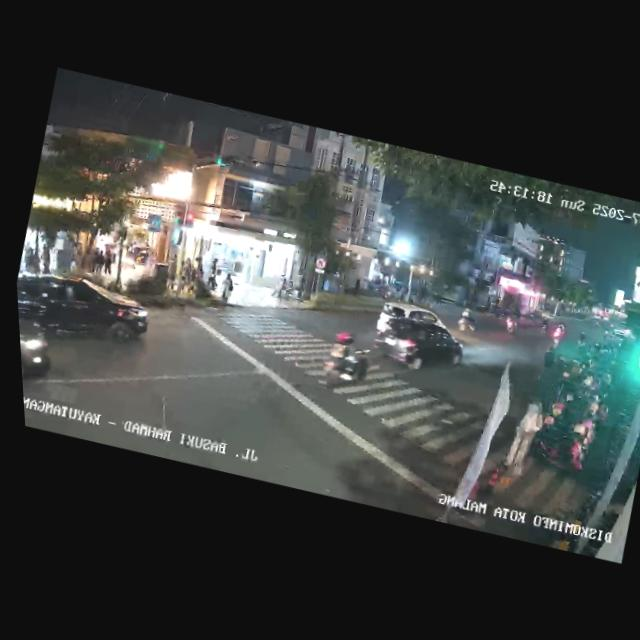car: (16, 263, 157, 363), (368, 309, 469, 384), (369, 296, 450, 348), (18, 303, 63, 394)
motorcycle: (313, 325, 381, 398), (453, 304, 480, 335), (546, 318, 569, 352)
person: (490, 395, 550, 484), (217, 270, 238, 305), (19, 239, 39, 271), (100, 243, 118, 277), (205, 255, 223, 289), (87, 242, 106, 274), (37, 243, 54, 272), (65, 249, 80, 274)
